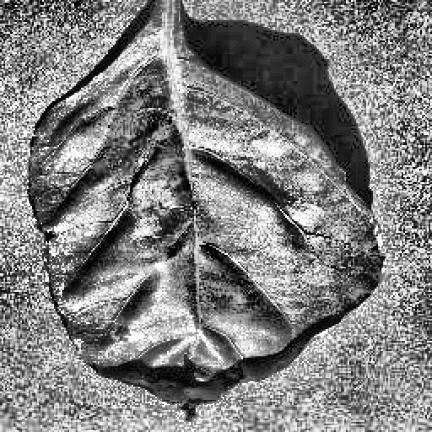leaf: (29, 0, 378, 422)
